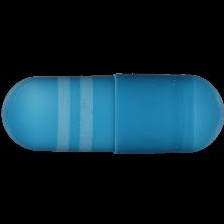54868-5690: (0, 0, 224, 224)
